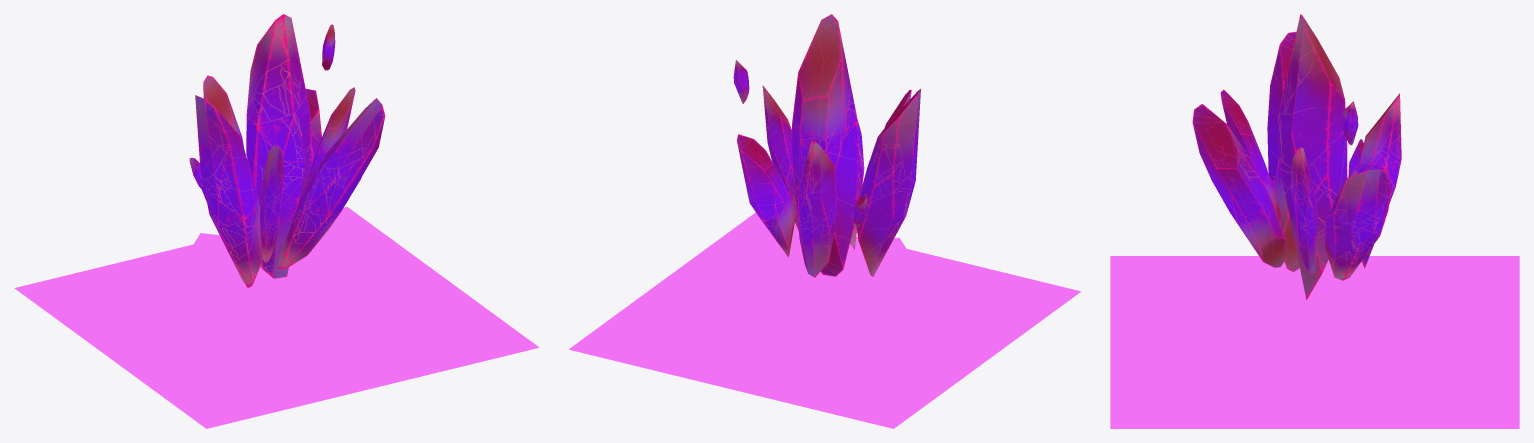
The model's file is gamma_crystal.glb.
3 renders of one model, left to right at view 1: azimuth 30°, elevation 25°; view 2: azimuth 150°, elevation 25°; view 3: azimuth 270°, elevation 25°, orthographic. The views are drawn at different scales.
Parts seen in each view (by area): view 1: pPlane1_anisotropic1_0, crystal_lp:Mesh_blinn1_0; view 2: pPlane1_anisotropic1_0, crystal_lp:Mesh_blinn1_0; view 3: pPlane1_anisotropic1_0, crystal_lp:Mesh_blinn1_0.
Part boxes in pixels (x1,y1,x2,y2): pPlane1_anisotropic1_0: (14,207,539,428); crystal_lp:Mesh_blinn1_0: (189,14,385,287); pPlane1_anisotropic1_0: (569,212,1081,428); crystal_lp:Mesh_blinn1_0: (733,14,920,277); pPlane1_anisotropic1_0: (1110,256,1519,428); crystal_lp:Mesh_blinn1_0: (1192,14,1401,300).
Size of the model in its own units: 146 by 129 by 146.
Materials: 2 (2 with a texture image).
